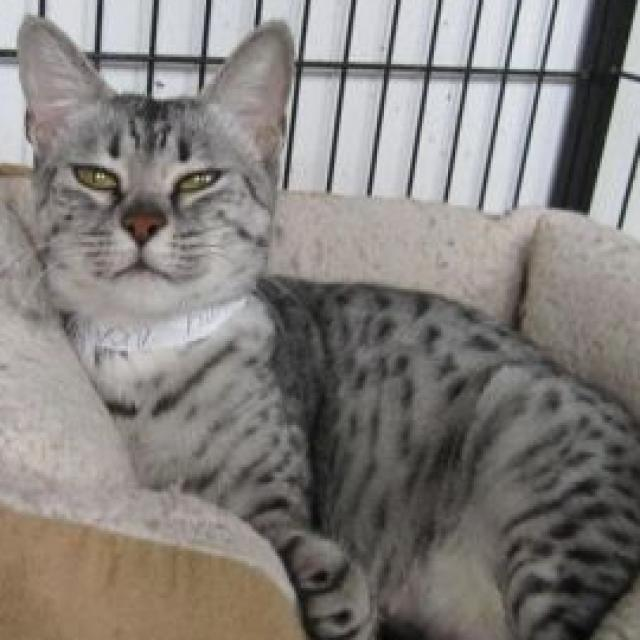Egyptian Mau: (12, 10, 640, 640)
